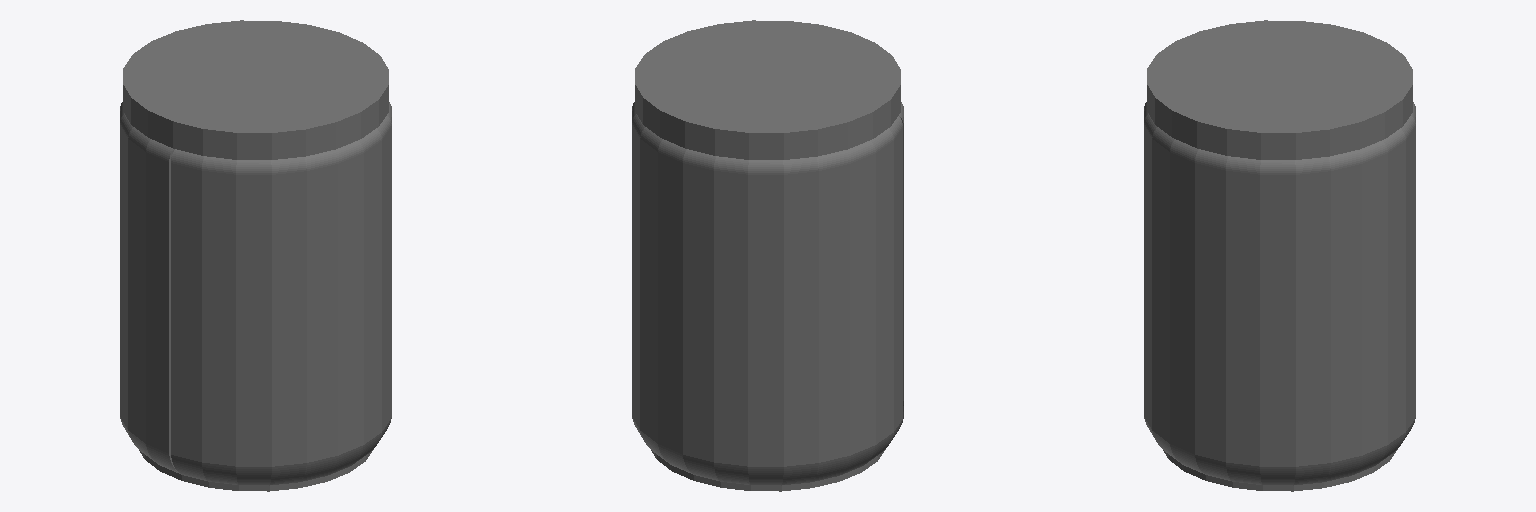
URDF robot description (object):
<?xml version="1.0"?>
<robot name="object">
  <link name="object">
    <visual>
      <origin xyz="0 0 0"/>
      <geometry>
        <mesh
          filename="../../mesh/oakink_virtual/cylinder_bottle_s614.stl" />
      </geometry>
      <material name="mat">
        <color rgba="0.5 0.5 0.5 1"/>
      </material>
    </visual>

    <collision>
      <origin xyz="0 0 0"/>
      <geometry>
        <mesh
          filename="../../mesh/oakink_virtual/cylinder_bottle_s614.stl" />
      </geometry>
    </collision>
  </link>
</robot>

--- Render facts (derived) ---
The picture shows the robot from 3 angles, left to right: view 1: azimuth 30°, elevation 25°; view 2: azimuth 150°, elevation 25°; view 3: azimuth 270°, elevation 25°; orthographic projection.
Model object with 1 links and 0 joints (none), rooted at object, posed all joints at 0.
Links seen in each view (by area): view 1: object; view 2: object; view 3: object.
Link boxes in pixels (bbox=[...]): object: bbox=[120, 20, 391, 491]; object: bbox=[632, 20, 903, 491]; object: bbox=[1144, 20, 1415, 491].
Bounding box of the posed robot: 0.0817 × 0.0817 × 0.1205 m (x, y, z).
Meshes: 1 distinct files referenced, 1 mesh visuals loaded (1 binary STL).